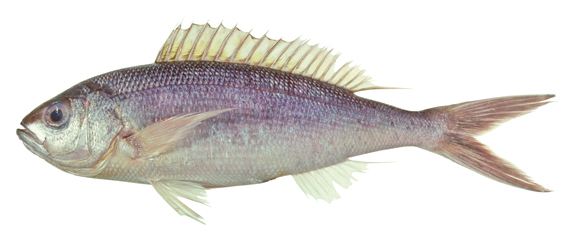fish: (16, 19, 558, 227)
